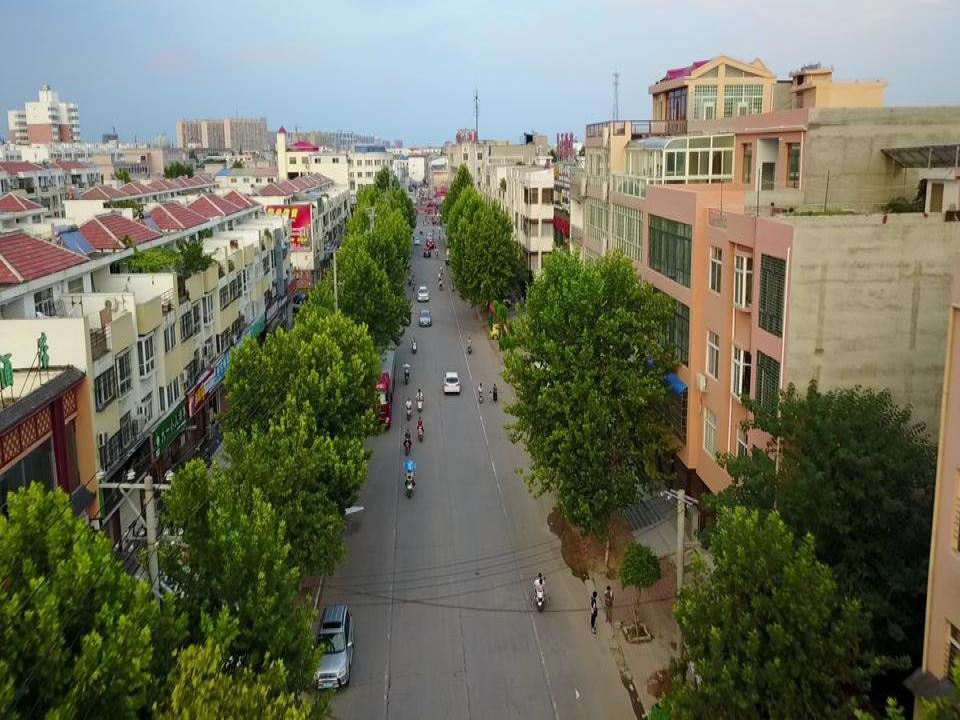car: (310, 601, 356, 692), (489, 321, 515, 340), (442, 372, 461, 395), (490, 292, 511, 308), (417, 309, 432, 327), (285, 292, 306, 304), (416, 285, 430, 303), (422, 247, 431, 257), (426, 240, 434, 248), (413, 238, 421, 245)
truck: (362, 345, 396, 428), (445, 248, 456, 265)
van: (426, 232, 432, 241)
